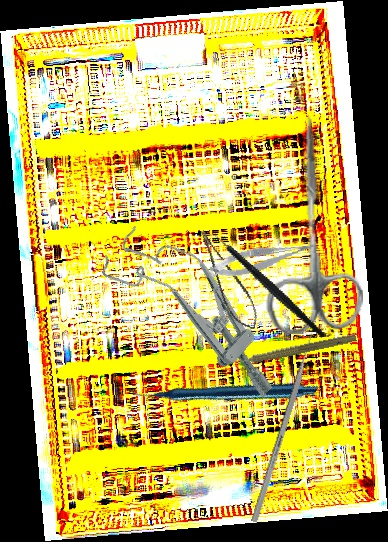Chopper: (202, 206, 327, 365)
Handpiece: (127, 297, 320, 481), (228, 328, 358, 371)
Iris Scissors: (256, 113, 365, 336)
Micro Scissor: (197, 222, 263, 336), (207, 238, 320, 281)
Pusher: (250, 320, 320, 523)
Speculum: (94, 210, 304, 410)
